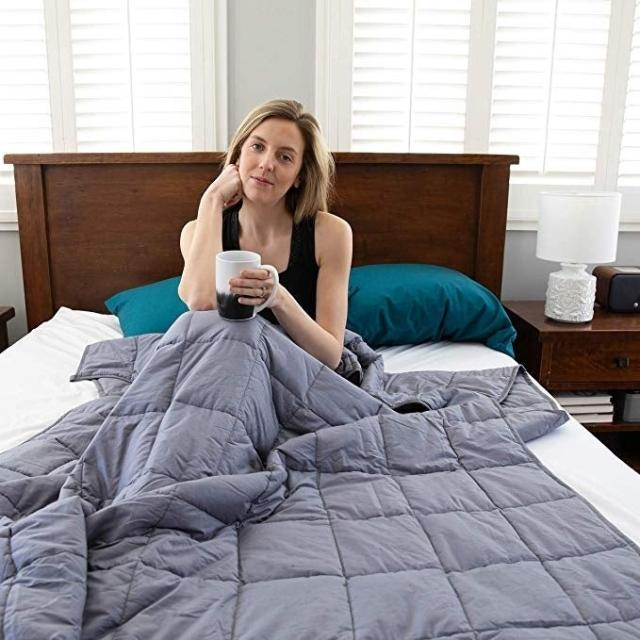blanket: (0, 312, 640, 640)
